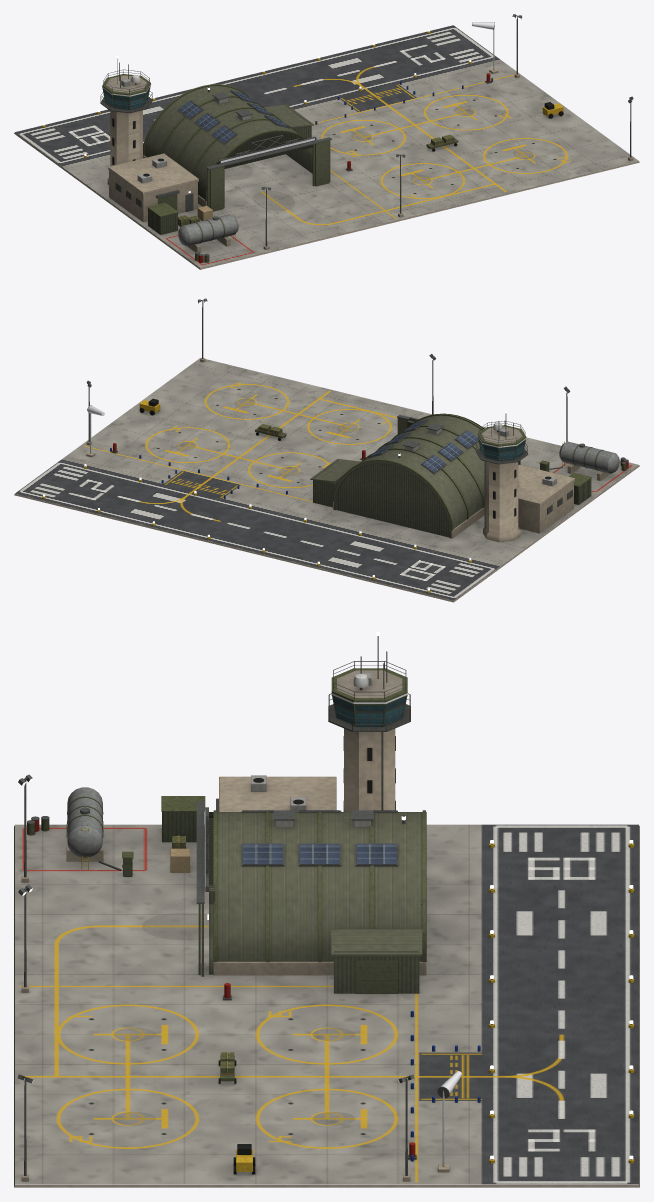
The model's file is airfield.glb.
The picture shows the model from 3 angles, top to bottom: view 1: azimuth 30°, elevation 25°; view 2: azimuth 150°, elevation 25°; view 3: azimuth 270°, elevation 25°; orthographic projection. The views are drawn at different scales.
Parts seen in each view (by area): view 1: Building, Props; view 2: Building, Props; view 3: Building, Props.
Boxes of the visible parts, box(x1,y1,x2,y2) form: Building: box(14, 25, 639, 269); Props: box(42, 14, 633, 262); Building: box(14, 358, 639, 602); Props: box(42, 298, 628, 592); Building: box(14, 636, 639, 1187); Props: box(17, 774, 634, 1181).
Size of the model in its own units: 60 by 16.72 by 44.
Materials: 27 (1 with a texture image).
